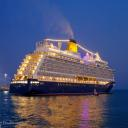cruises: (9, 37, 117, 99)
